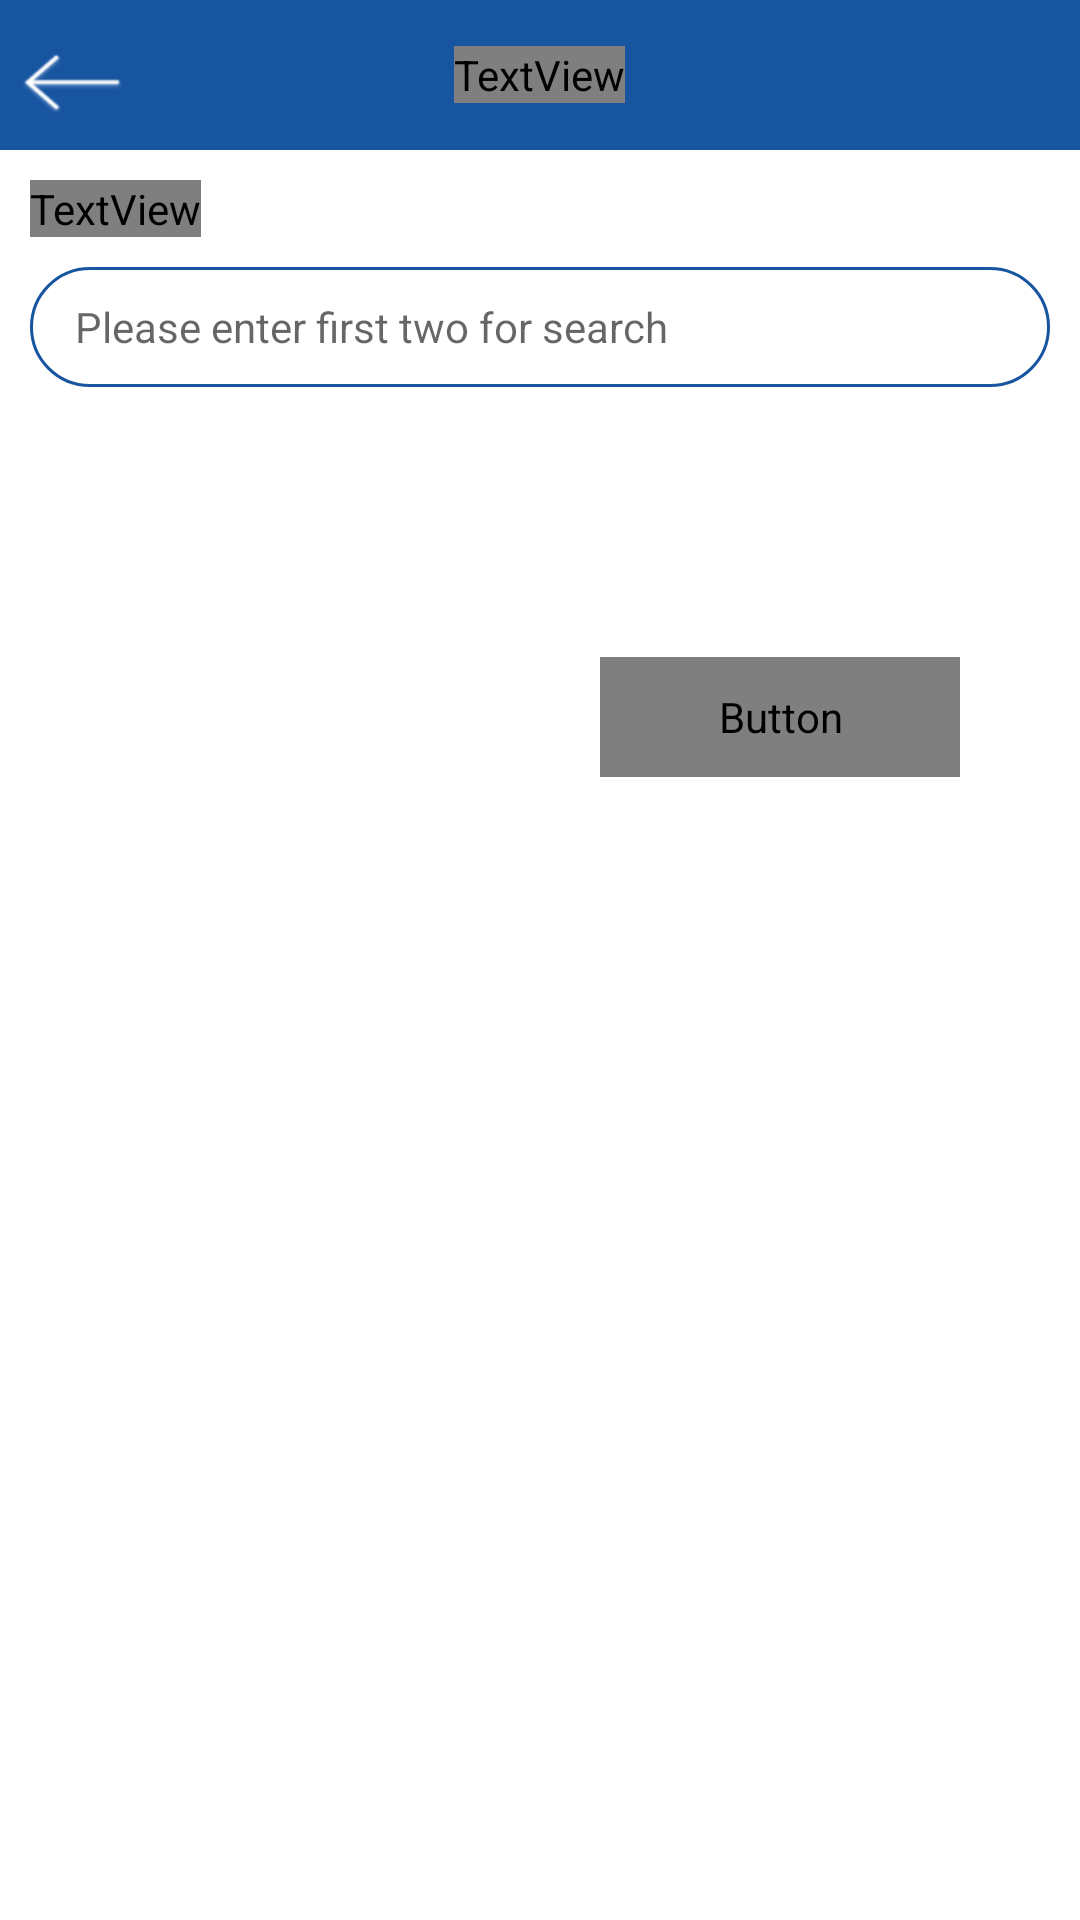

Icon bounding boxes for this 1080 × 1920 phone screenshot, format (x1, y1, x2, y2):
back: (24, 54, 120, 111)
